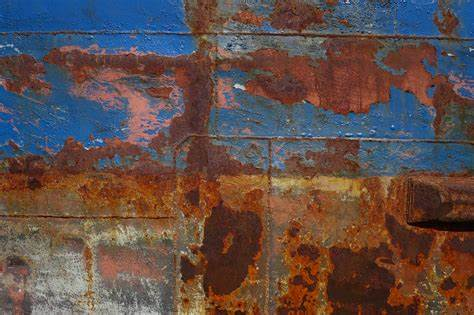rust: (47, 49, 391, 110), (196, 188, 264, 307), (318, 240, 416, 314), (400, 178, 470, 228)
